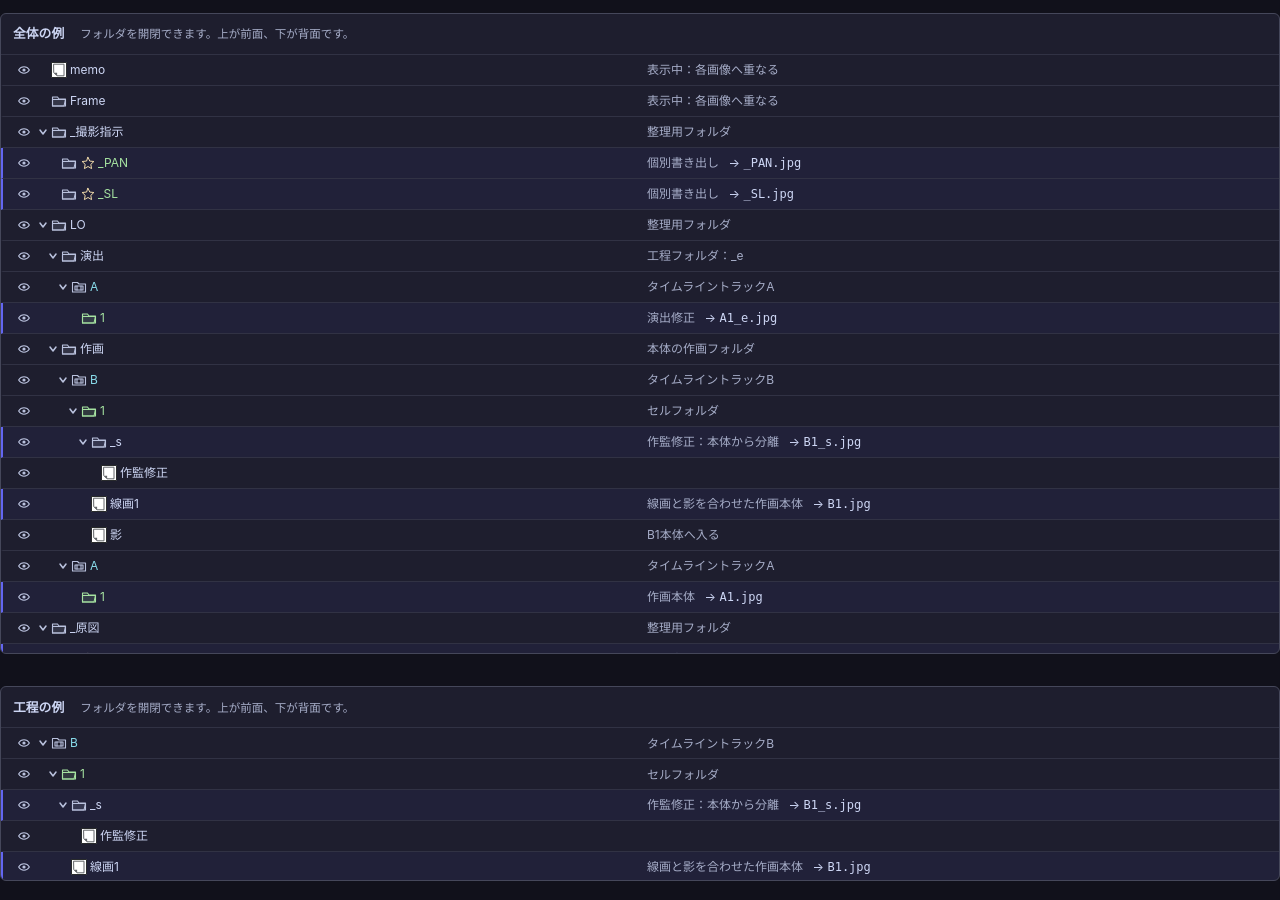
Scenario: HelpLayerTree › 同じ素材を説明する例同士でも開閉は独立し、工程と出力名の対応を保つ
The image size is (1280, 900).
Check: the element showing "_s 作監修正：本体から分離 → B1_s.jpg" is shown, box [1, 790, 1279, 821]
Click the button named "Bを折りたたむ" below "工程の例": (42, 743) [37, 735, 48, 751]
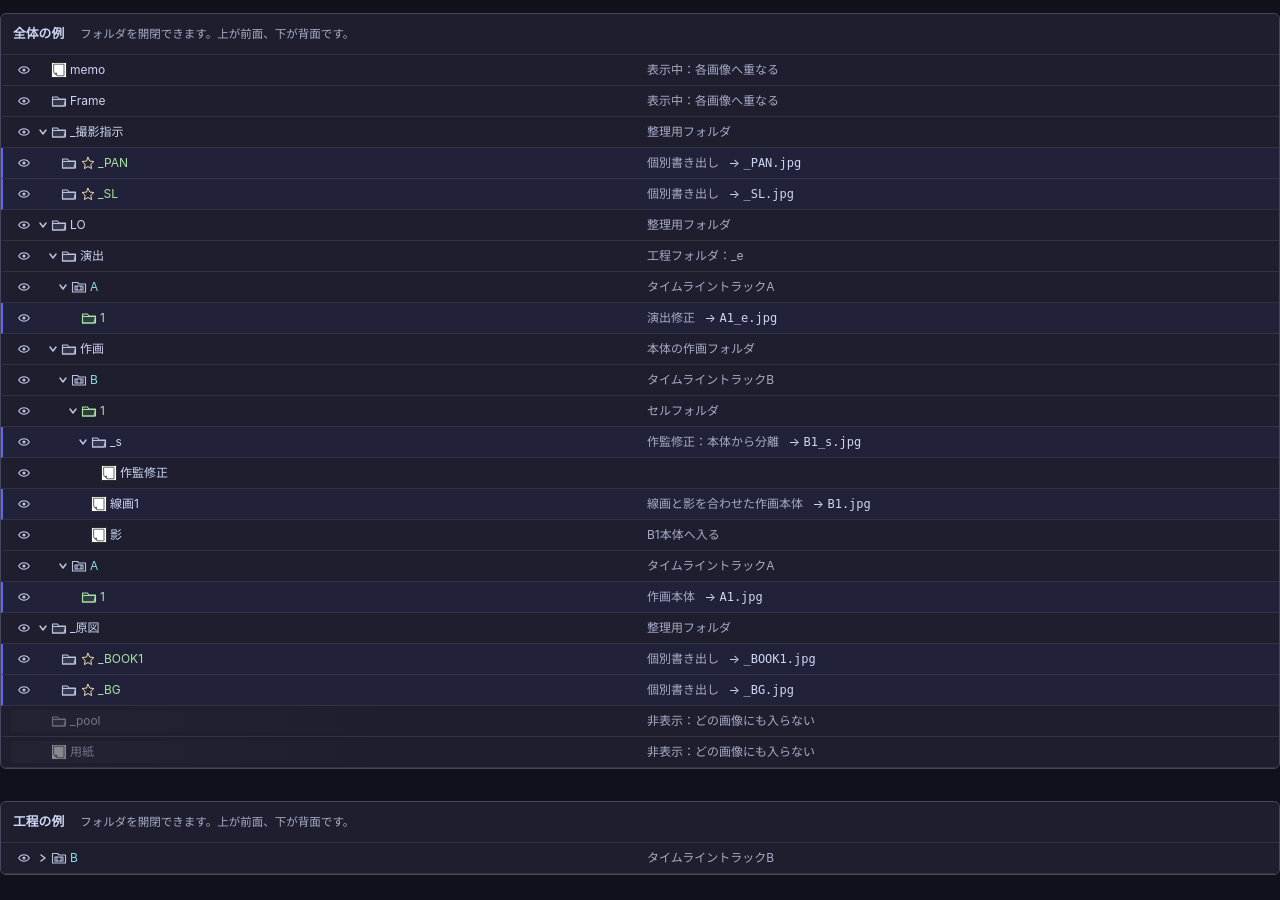
Check: the text "B1_s.jpg" is shown, box [803, 435, 861, 449]
Click the button named "Bを展開する": (42, 858) [37, 850, 48, 866]
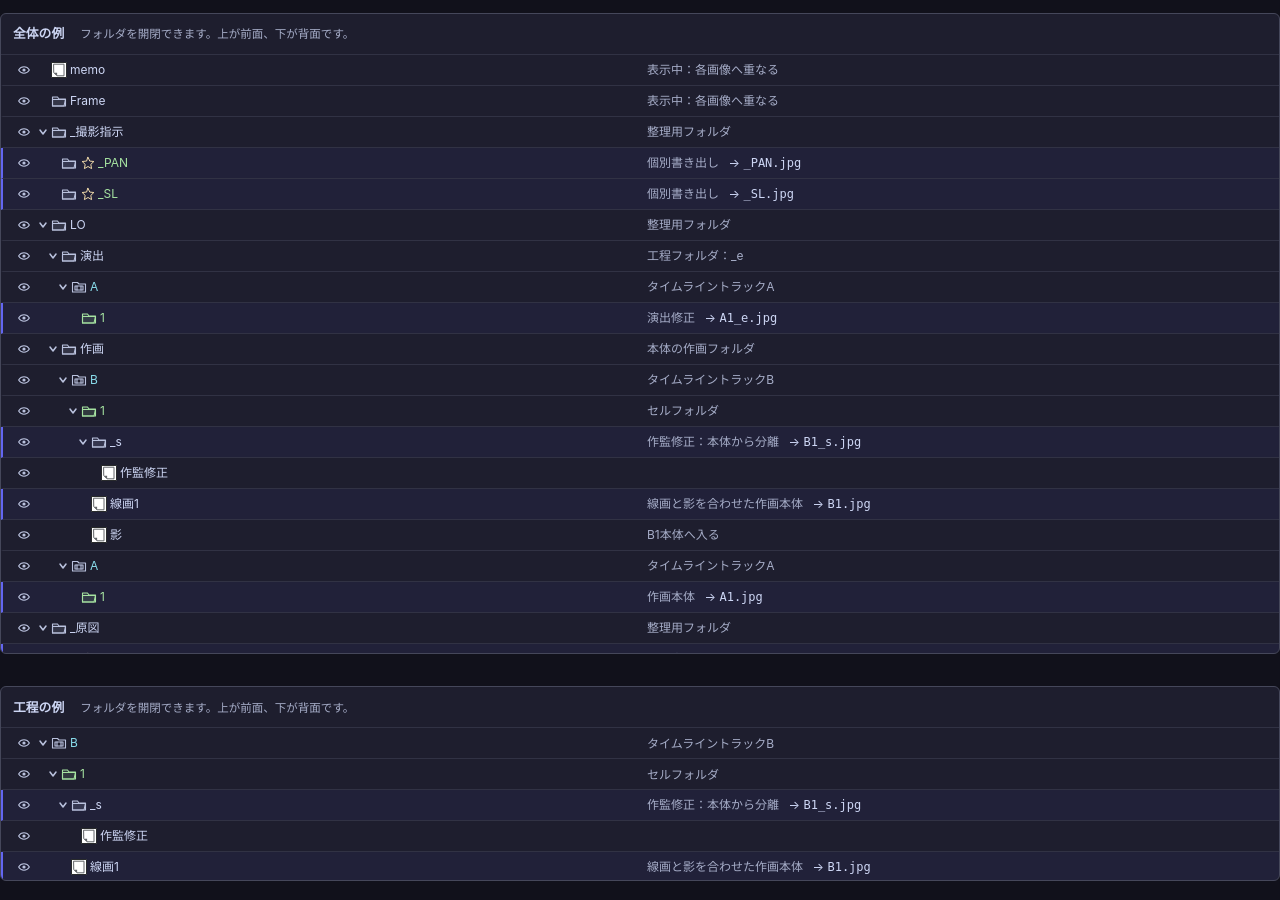
Check: the 2nd text "B1_s.jpg" is shown, box [803, 798, 861, 812]
